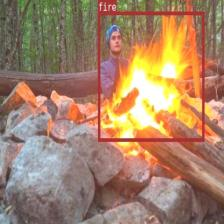fire: (97, 11, 204, 141)
